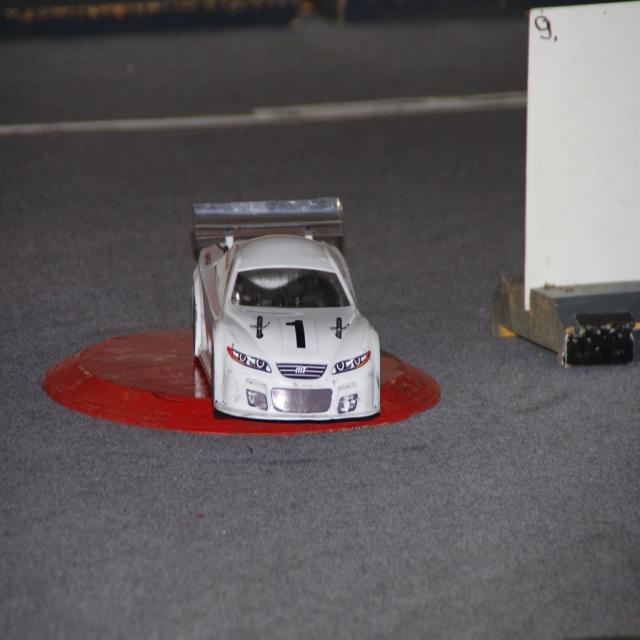car: (188, 196, 380, 423)
